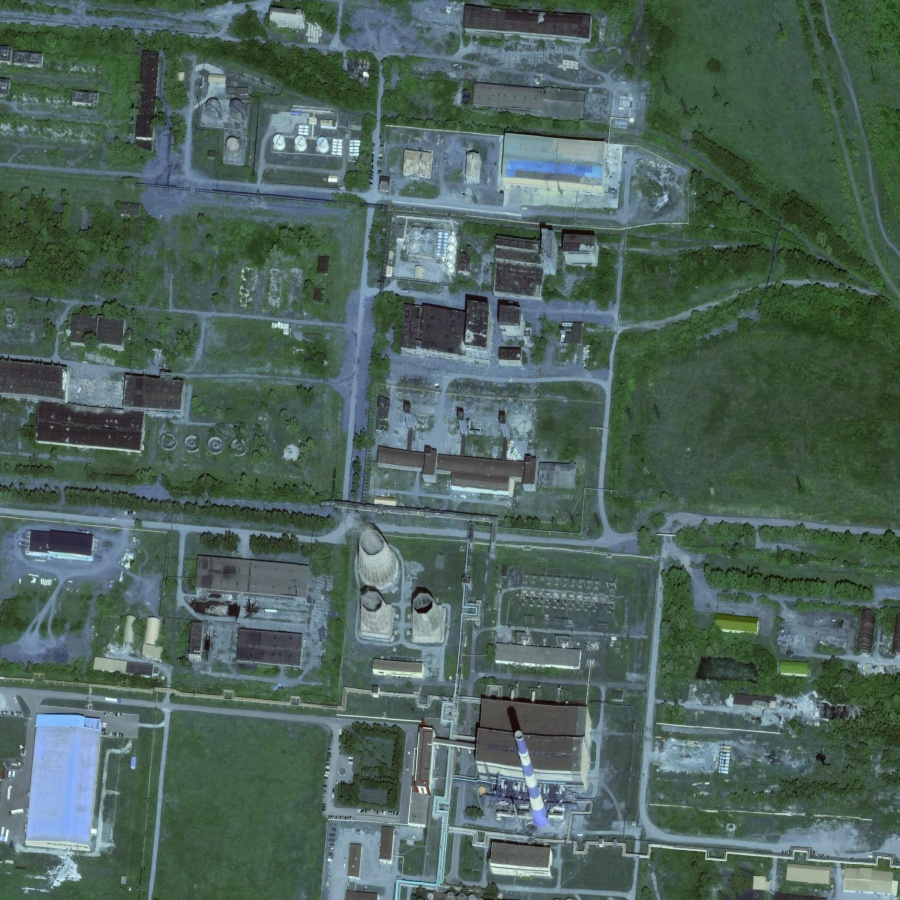PowerPlant: (329, 519, 622, 878)
